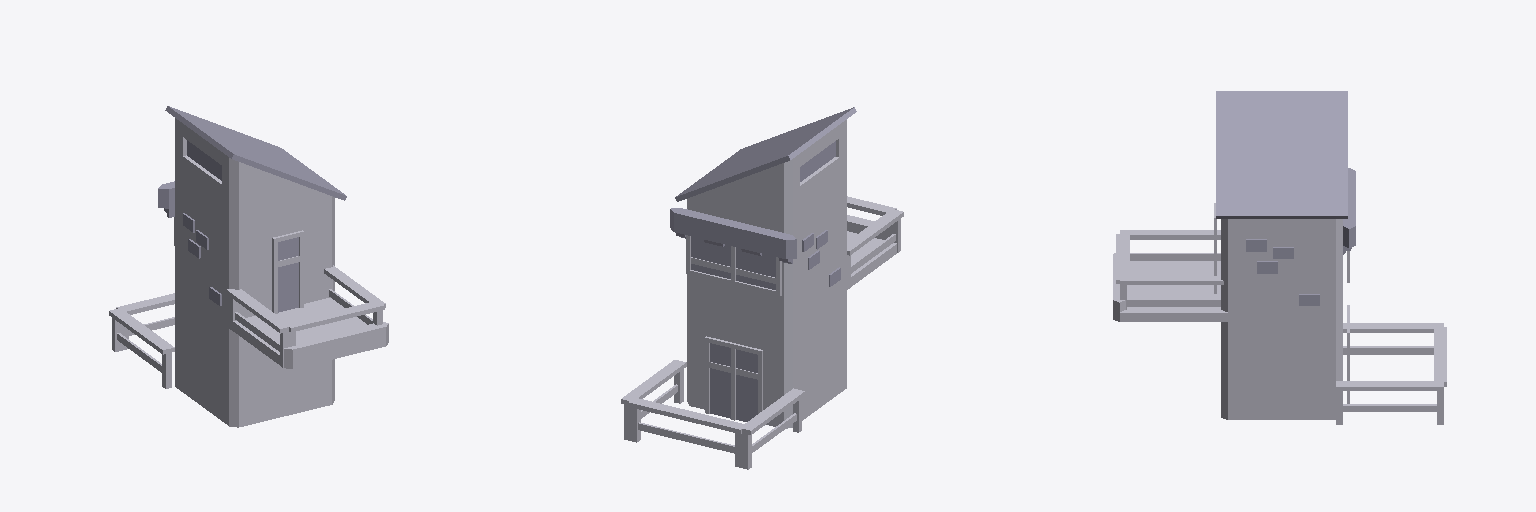
File: building3.obj
3 views of the same model, side by side, from view 1: azimuth 30°, elevation 25°; view 2: azimuth 150°, elevation 25°; view 3: azimuth 270°, elevation 25° (orthographic).
Size of the model in its own units: 1.39 by 2.83 by 3.09.